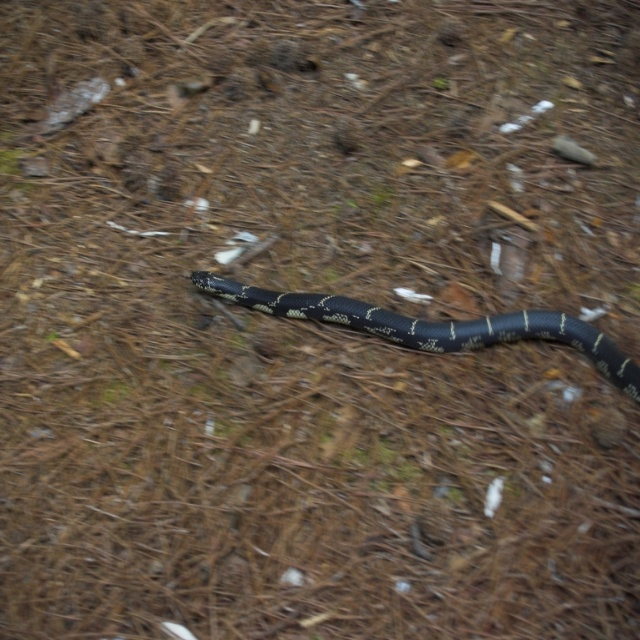Snake: (193, 270, 640, 405)
